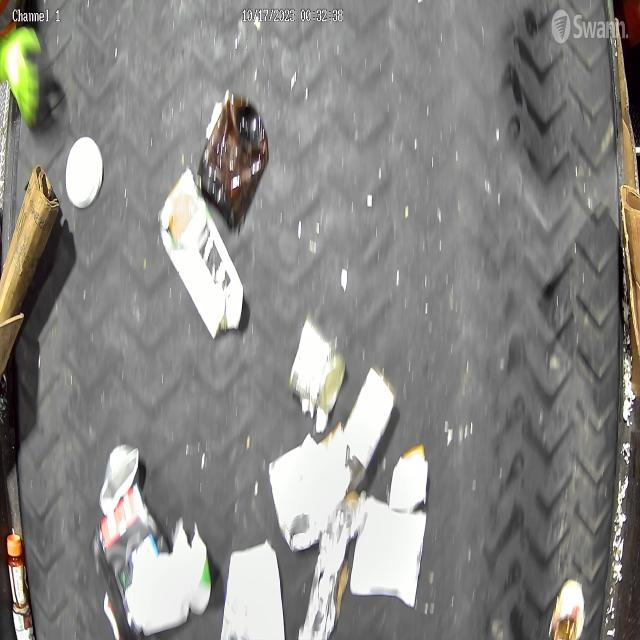can: (289, 316, 344, 425), (100, 442, 142, 515), (548, 580, 586, 640)
non_white_jug: (159, 166, 244, 337)
